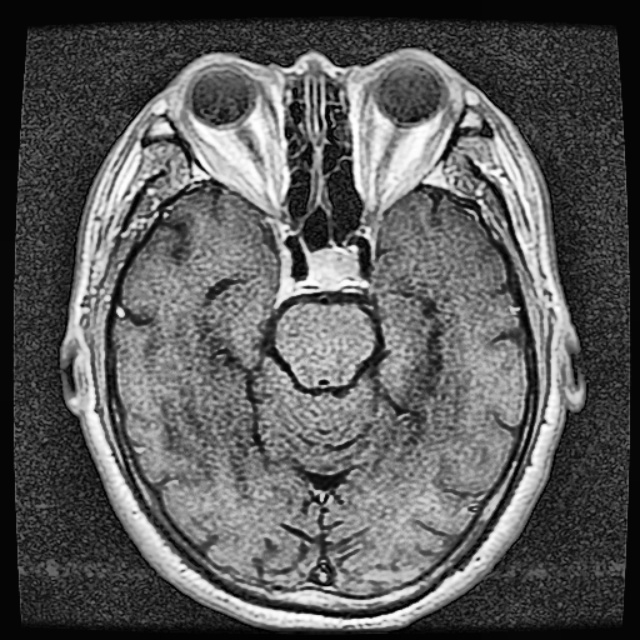Pituitary: (308, 247, 358, 290)
